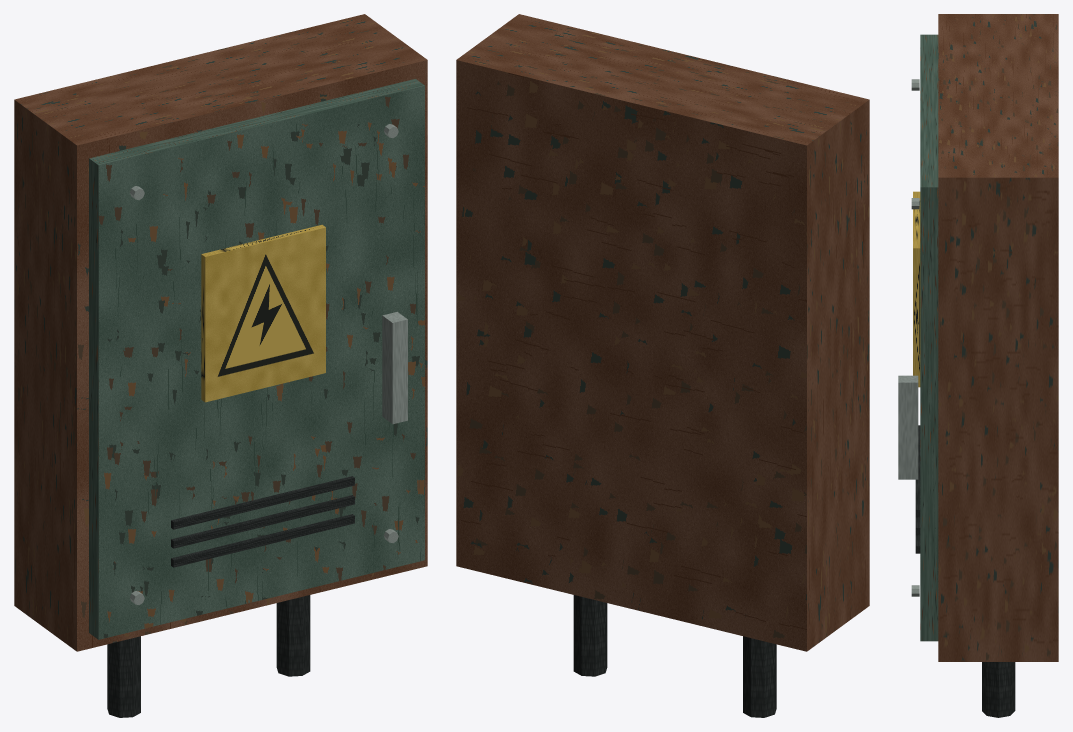
Rendered from FuseBox.obj.
3 views of the same model, side by side, from view 1: azimuth 30°, elevation 25°; view 2: azimuth 150°, elevation 25°; view 3: azimuth 270°, elevation 25° (orthographic). The views are drawn at different scales.
Visible parts, largest first — view 1: FuseBox; view 2: FuseBox; view 3: FuseBox.
Part boxes in pixels (x1,y1,x2,y2): FuseBox: (14,14,427,717); FuseBox: (456,14,869,717); FuseBox: (898,14,1058,717).
Size of the model in its own units: 0.58 by 0.96 by 0.24.
5 materials, 5 textured.
